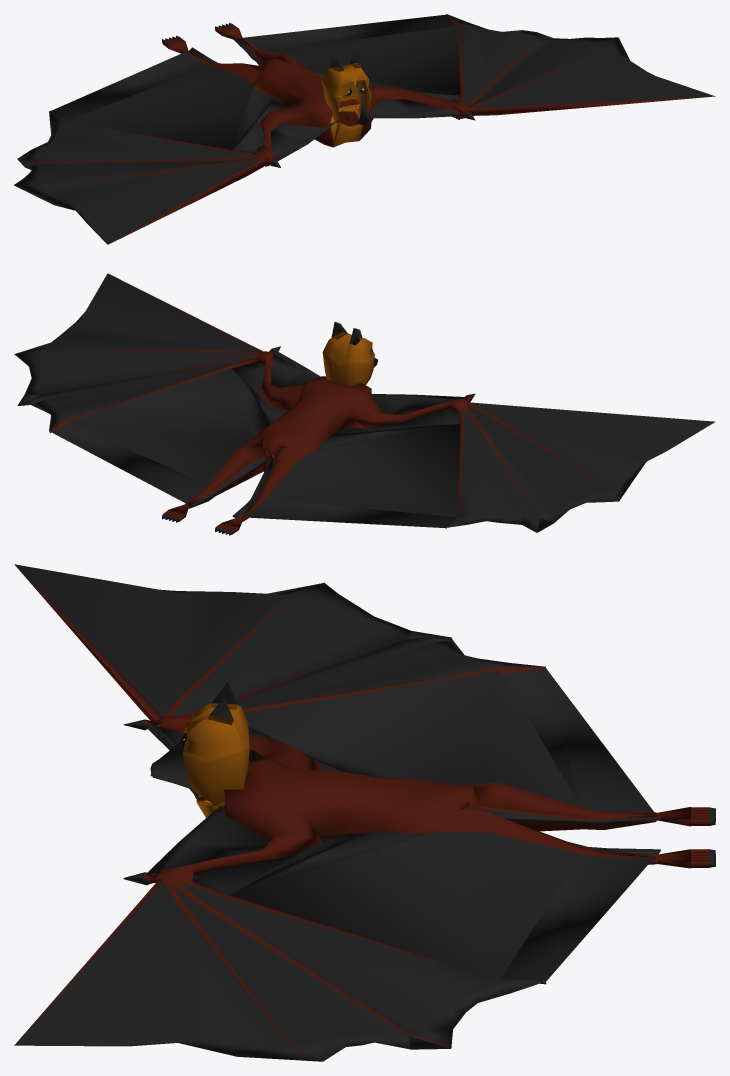
Rendered from bat.obj.
The picture shows the model from 3 angles, top to bottom: view 1: azimuth 30°, elevation 25°; view 2: azimuth 150°, elevation 25°; view 3: azimuth 270°, elevation 25°; orthographic projection. The views are drawn at different scales.
Parts seen in each view (by area): view 1: bat; view 2: bat; view 3: bat.
Boxes of the visible parts, bbox=[...] form: bat: bbox=[14, 14, 715, 244]; bat: bbox=[14, 273, 715, 535]; bat: bbox=[14, 564, 715, 1061].
Size of the model in its own units: 1.84 by 0.2828 by 1.14.
